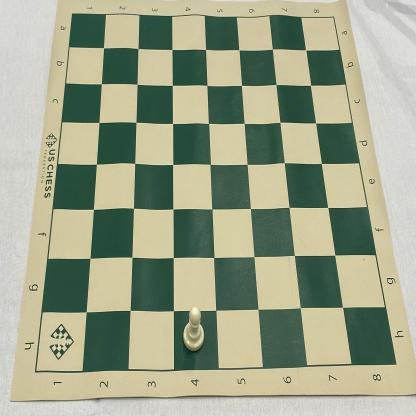pawn: (183, 305, 205, 353)
